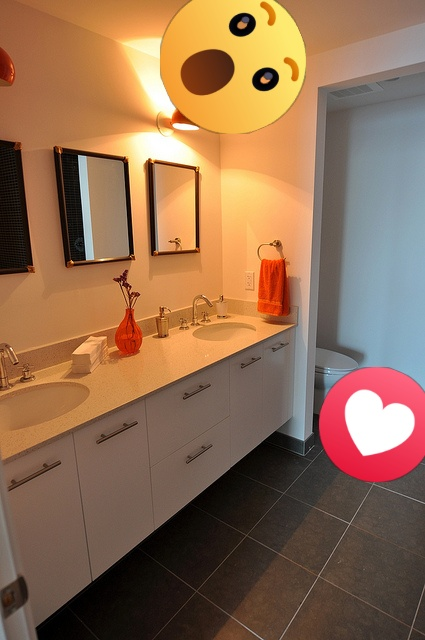love: (319, 367, 425, 482)
wow: (160, 0, 306, 134)
